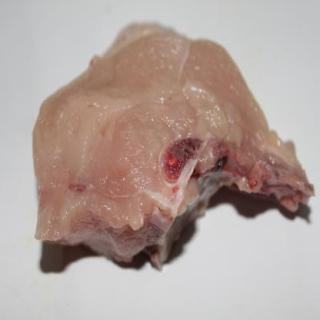Ayam: (32, 22, 316, 265)
